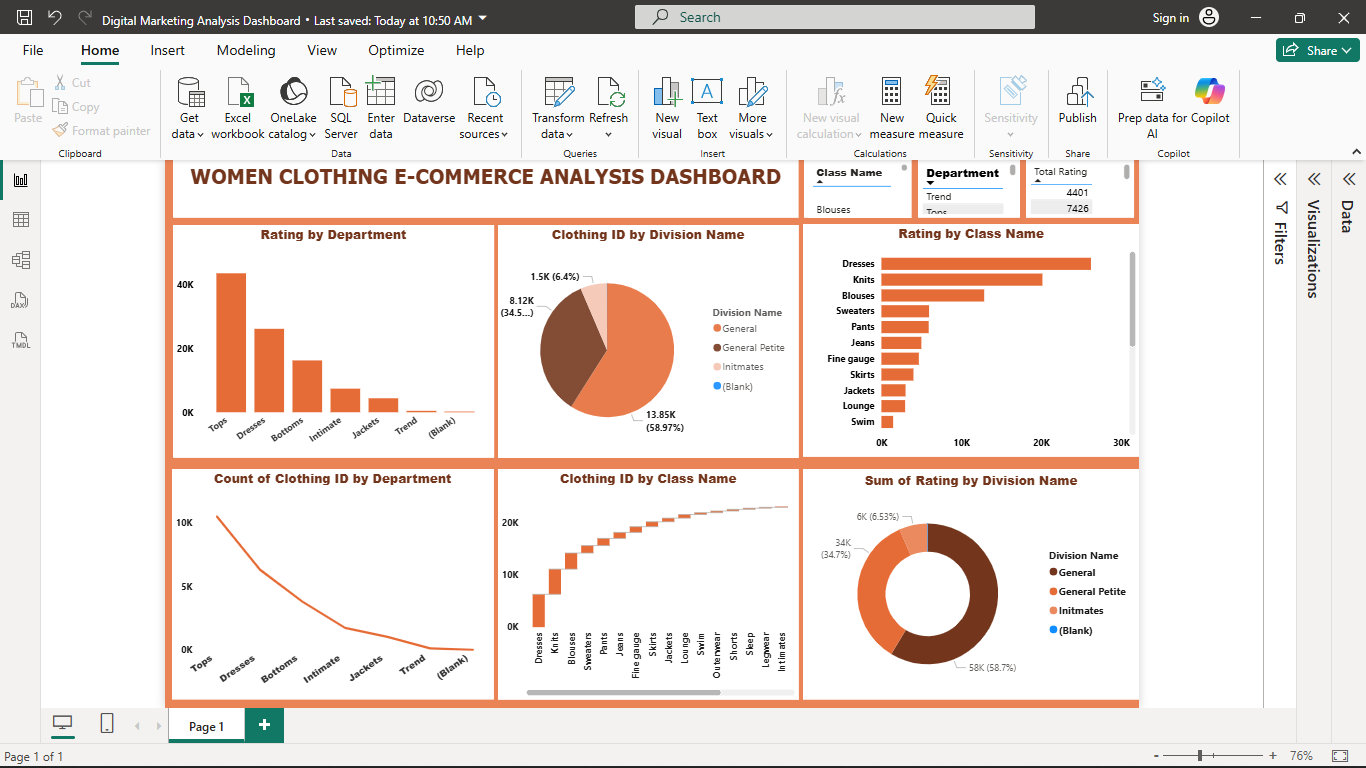

The dashboard page shown, as its layout file describes it:
{"tool":"powerbi","page":{"name":"Page 1","canvas":[1280,720],"ordinal":0},"visuals":[{"type":"clusteredColumnChart","title":"Rating by Department","fields":{"Category":["Age by Dept Name.Department"],"Y":["Sum(Table1.Rating)"]},"box":[10,85.8,421.9,306.1],"z":0},{"type":"lineChart","fields":{"Y":["CountNonNull(Table1.Clothing ID)"],"Category":["Age by Dept Name.Department"]},"box":[9.6,406,422.5,302.8],"z":1000},{"type":"textbox","box":[437.6,85.8,394.7,306.1],"z":2000},{"type":"textbox","box":[437.7,406,395,302.8],"z":3000},{"type":"textbox","box":[10.4,0,821.9,76],"z":4000},{"type":"barChart","title":"Rating by Class Name","fields":{"Category":["Table1.Class Name"],"Y":["Sum(Table1.Rating)"]},"box":[838.1,84.4,441.9,306.1],"z":5000},{"type":"textbox","box":[838,406,442,303],"z":6000},{"type":"pieChart","title":"Clothing ID by Division Name","fields":{"Category":["Table1.Division Name"],"Y":["CountNonNull(Table1.Clothing ID)"]},"box":[437.6,85.8,394.7,306.1],"z":7000},{"type":"donutChart","fields":{"Category":["Table1.Division Name"],"Y":["Sum(Table1.Rating)"]},"box":[838.2,408.8,441.8,300],"z":8000},{"type":"waterfallChart","title":"Clothing ID by Class Name","fields":{"Category":["Table1.Class Name"],"Y":["CountNonNull(Table1.Clothing ID)"]},"box":[437.7,406,395,302.8],"z":9000},{"type":"textbox","box":[839.8,0,140.9,75.7],"z":10000},{"type":"tableEx","fields":{"Values":["Table1.Class Name"]},"box":[845.1,0,135.6,75.7],"z":11000},{"type":"tableEx","fields":{"Values":["Age by Dept Name.Department"]},"box":[989.5,0,133.8,75.7],"z":12000},{"type":"tableEx","fields":{"Values":["Depat name.Total Rating"]},"box":[1131.3,0,141.6,75.8],"z":13000}]}

Visuals, with their boxes on the page's 1280x720 design canvas (x1, y1, x2, y2). These are canvas units, not pixel positions in the 1366x768 screenshot, which may show the page scaled, cropped or inside an application window:
"Rating by Department" clusteredColumnChart: l=10, t=86, r=432, b=392
lineChart - CountNonNull(Table1.Clothing ID) x Age by Dept Name.Department: l=10, t=406, r=432, b=709
textbox: l=438, t=86, r=832, b=392
textbox: l=438, t=406, r=833, b=709
textbox: l=10, t=0, r=832, b=76
"Rating by Class Name" barChart: l=838, t=84, r=1280, b=390
textbox: l=838, t=406, r=1280, b=709
"Clothing ID by Division Name" pieChart: l=438, t=86, r=832, b=392
donutChart - Table1.Division Name x Sum(Table1.Rating): l=838, t=409, r=1280, b=709
"Clothing ID by Class Name" waterfallChart: l=438, t=406, r=833, b=709
textbox: l=840, t=0, r=981, b=76
tableEx - Table1.Class Name: l=845, t=0, r=981, b=76
tableEx - Age by Dept Name.Department: l=990, t=0, r=1123, b=76
tableEx - Depat name.Total Rating: l=1131, t=0, r=1273, b=76
